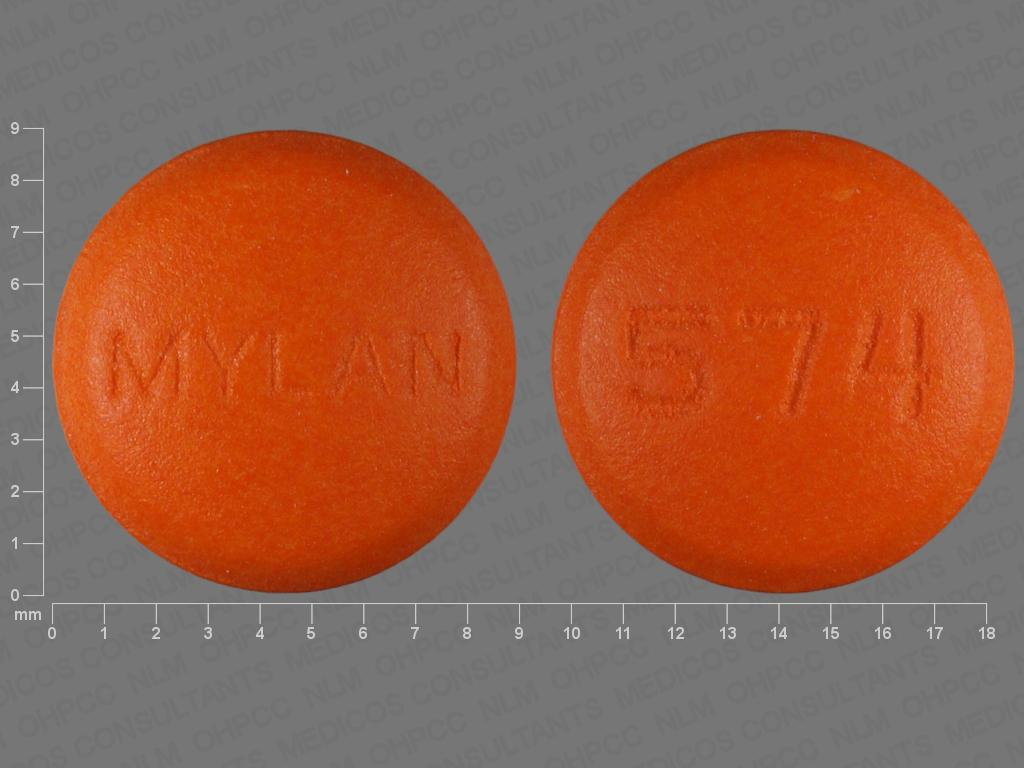Pill: (541, 123, 1024, 599), (45, 125, 526, 599)
